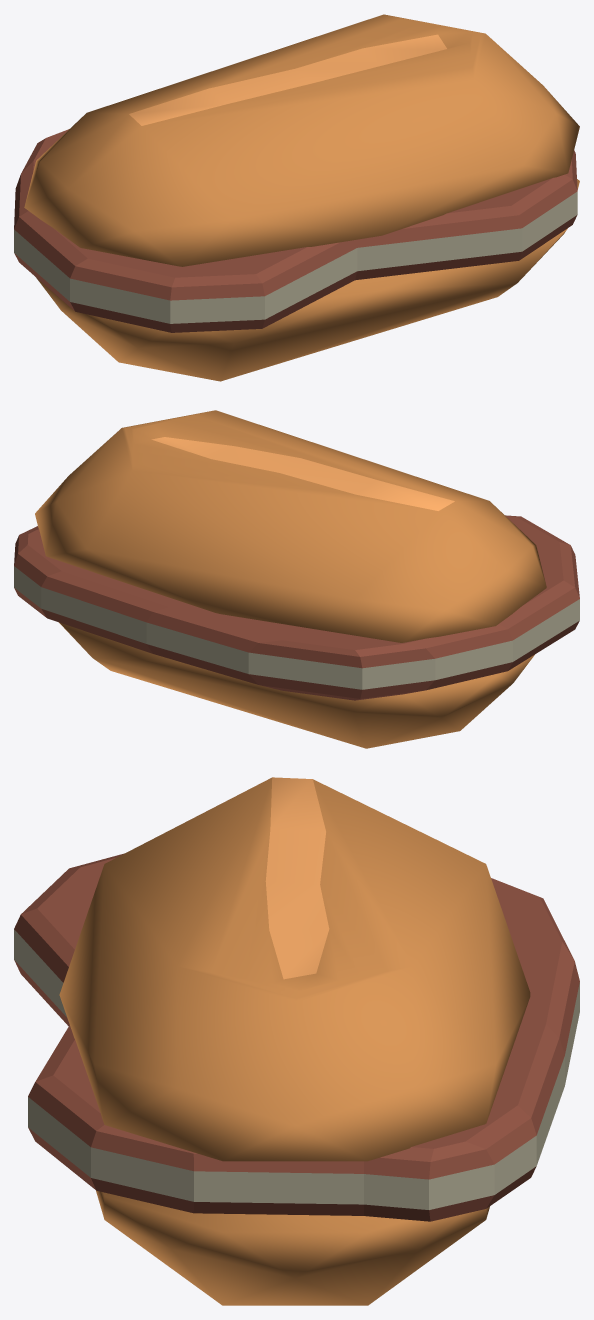
File: MeatBred-Lowpoly.fbx
The picture shows the model from 3 angles, top to bottom: view 1: azimuth 30°, elevation 25°; view 2: azimuth 150°, elevation 25°; view 3: azimuth 270°, elevation 25°; orthographic projection. The views are drawn at different scales.
Parts seen in each view (by area): view 1: BredMeat; view 2: BredMeat; view 3: BredMeat.
Part boxes in pixels (left/top/right/bottom): BredMeat: left=14, top=14, right=579, bottom=381; BredMeat: left=14, top=410, right=579, bottom=748; BredMeat: left=14, top=777, right=579, bottom=1305.
Size of the model in its own units: 124 by 60.51 by 88.79.
